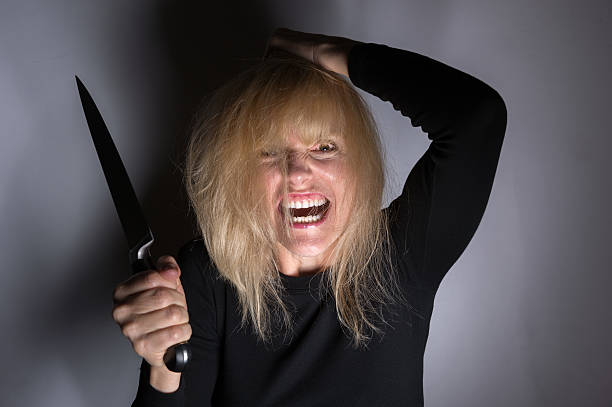knife: (74, 74, 190, 372)
